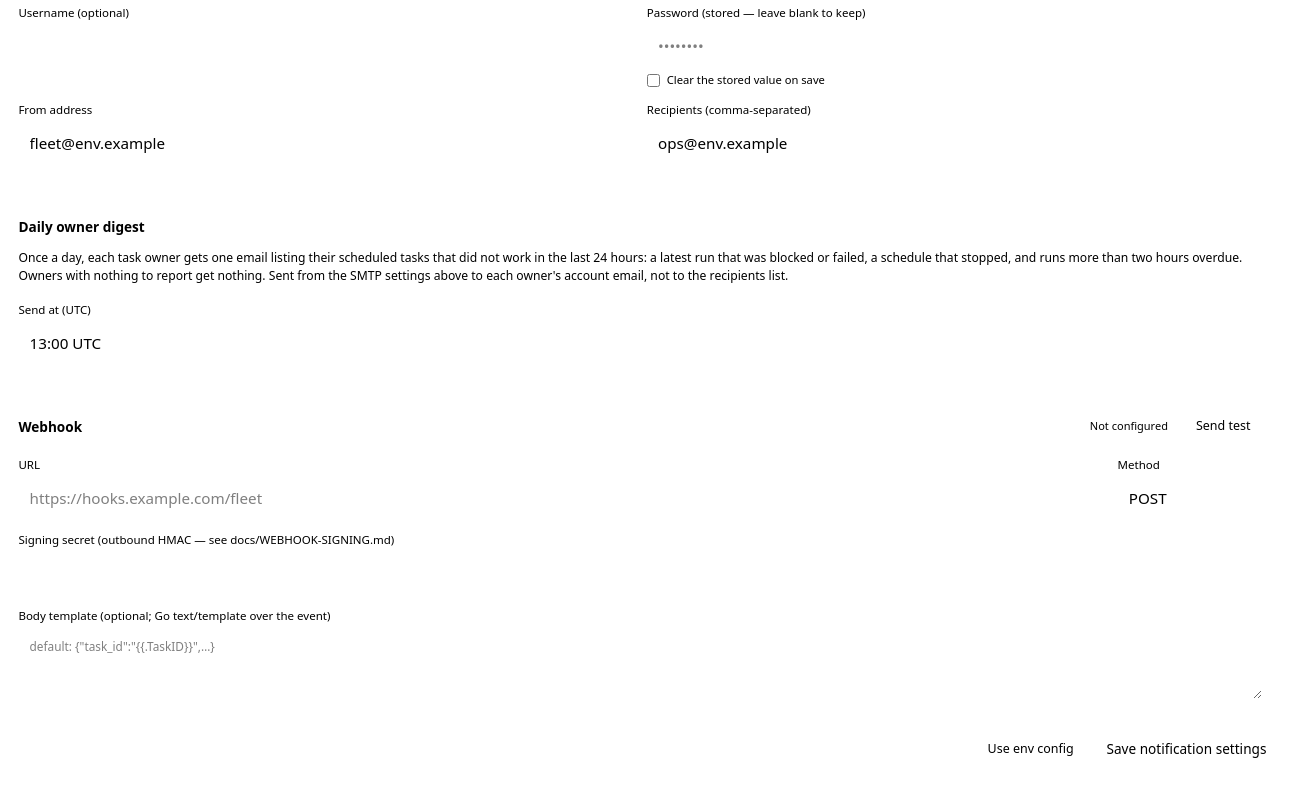
Scenario: NotificationsAdminPage › reverting to env config DELETEs only after the inline confirm's second click
(page scrolled)
Click the button with test id "notify-revert" at (1031,750), box [976,732,1085,767]
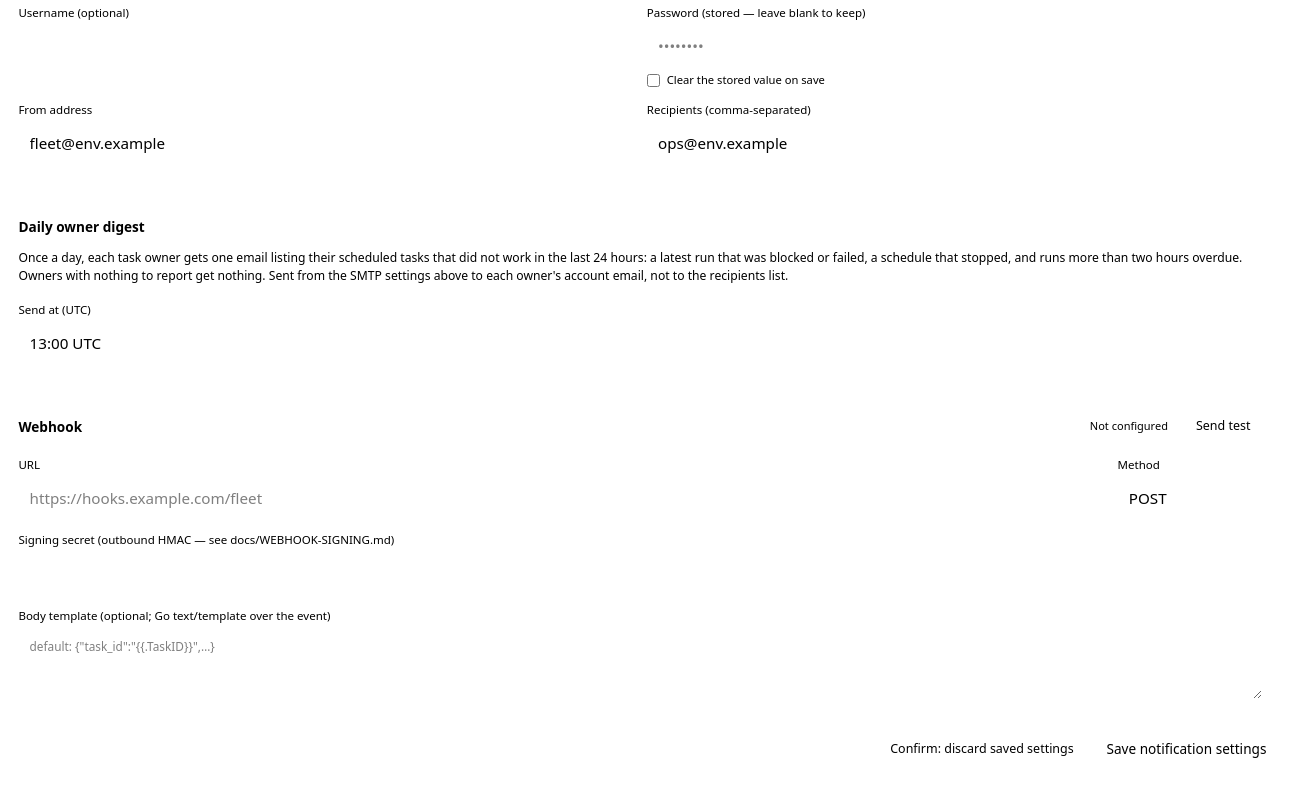
Now the button with test id "notify-revert" reads "Confirm: discard saved settings"
Click the button with test id "notify-revert" at (982,750), box [879,732,1085,767]
(page scrolled)
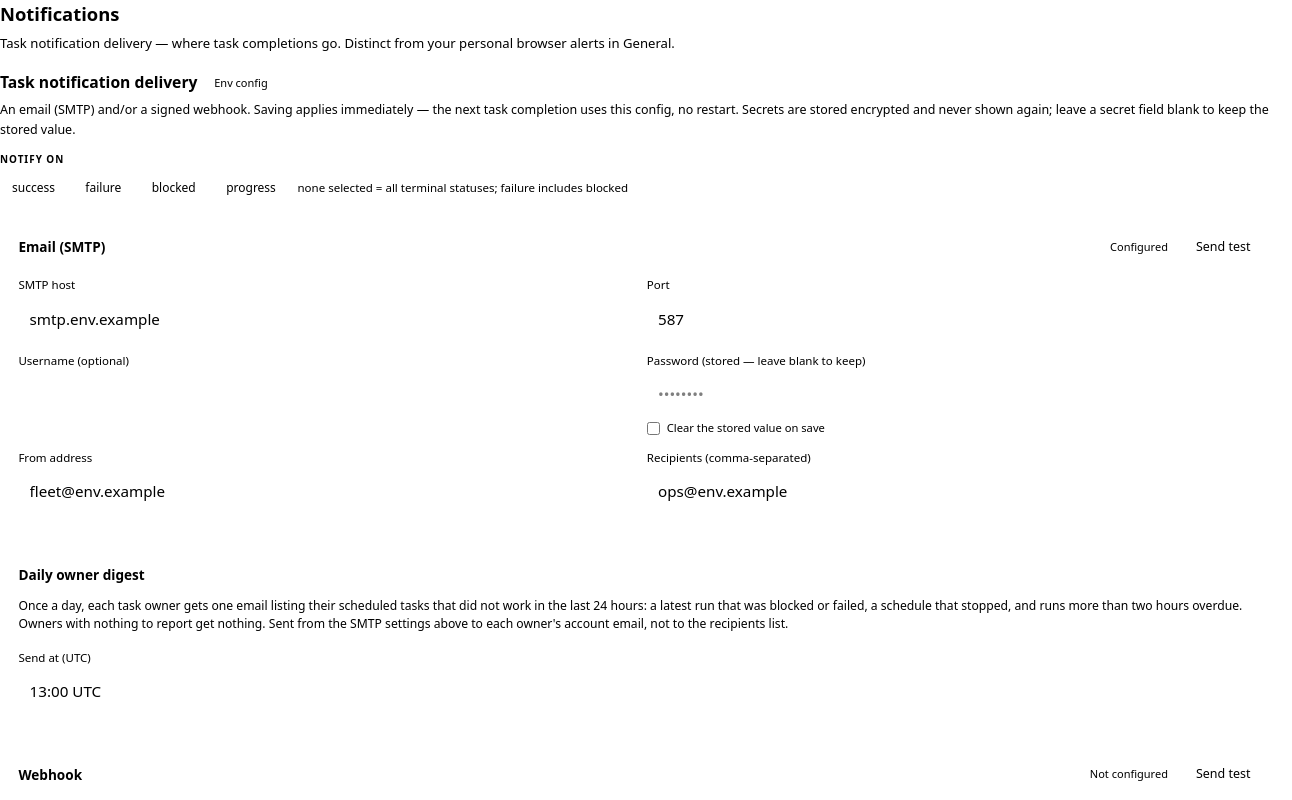
Now the text "Env config" is shown, box [214,75,268,90]
